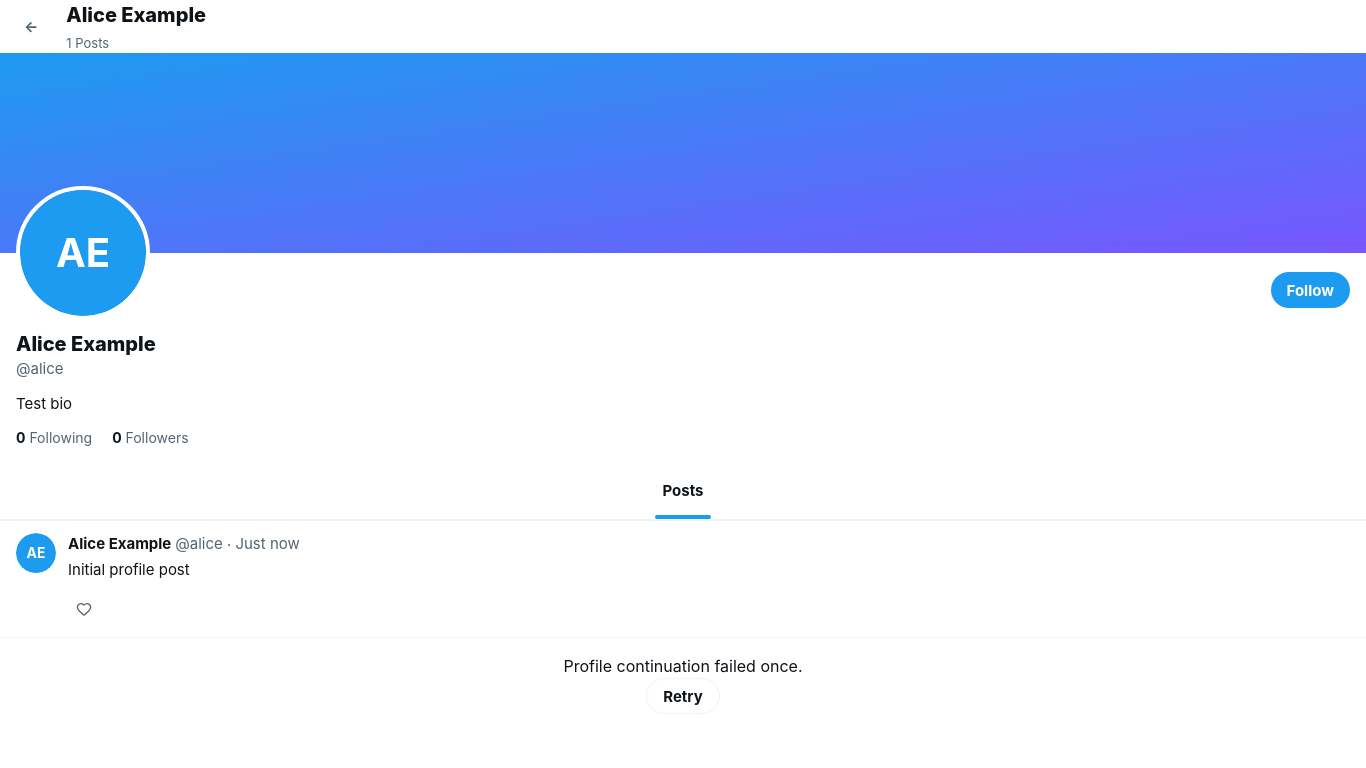
Test case: Profile continuation UI › preserves visible posts on continuation failure and appends posts after retry
Expected: the message "Profile continuation failed once. Retry" is shown, 564,656 -> 803,714
Expected: the text "Initial profile post" is shown, 68,560 -> 190,578
Click the button with test id "collection-continuation-retry" at (683, 696), box 646,678 -> 720,714
(page scrolled)
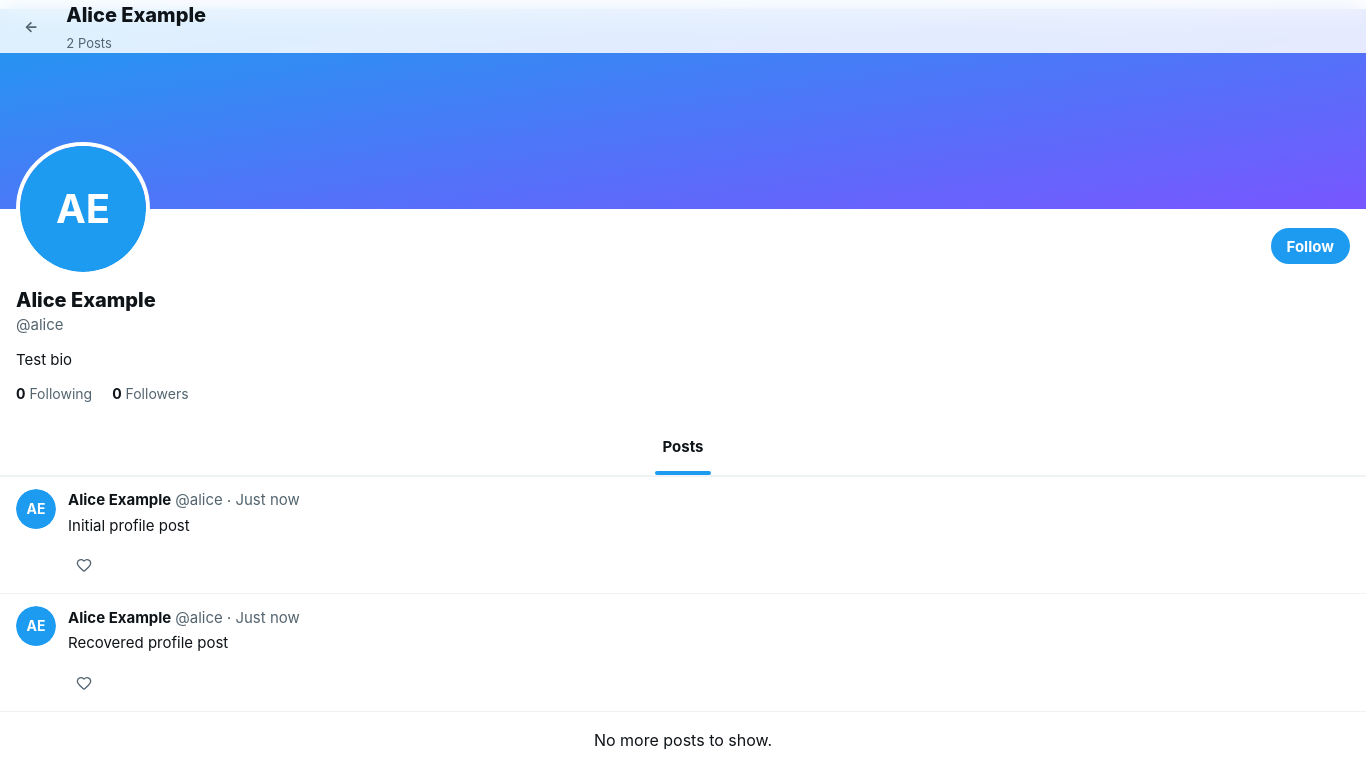
Expected: the text "Initial profile post" is shown, 68,516 -> 190,534
Expected: the text "Recovered profile post" is shown, 68,633 -> 228,652
Expected: the message "No more posts to show." is shown, 594,730 -> 772,750
